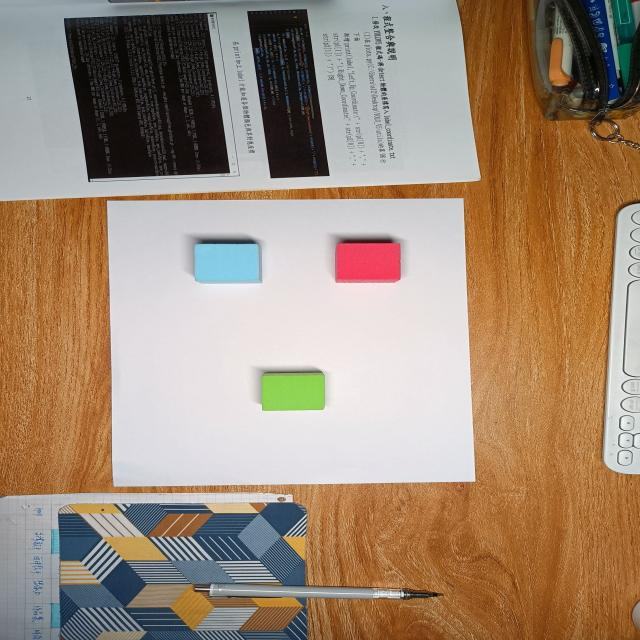BLUE: (193, 244, 263, 284)
GREEN: (261, 371, 326, 411)
RED: (335, 243, 401, 284)
